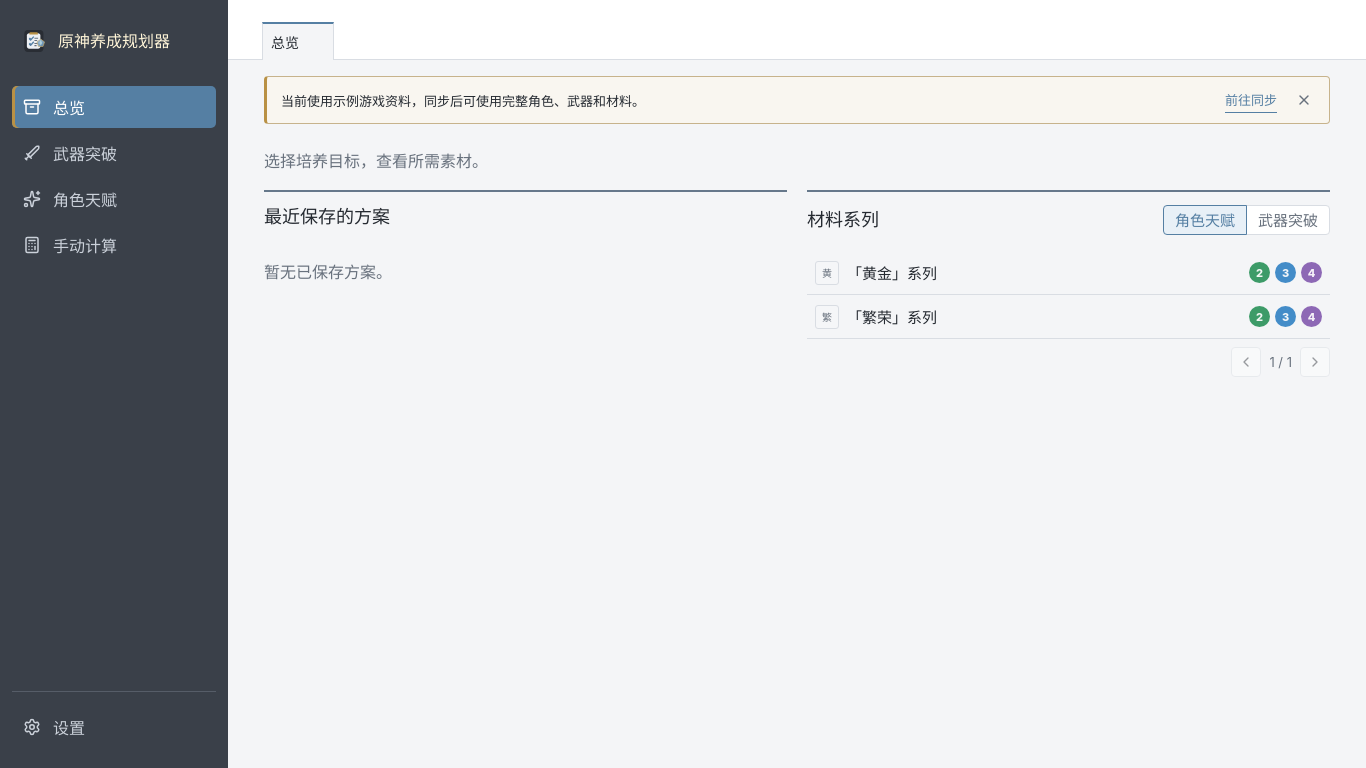
planner interface › shows a crafting character expectation in manual calculation
Expected: the text "原神养成规划器" is shown, [58, 31, 170, 51]
Click the button "手动计算": (114, 245) [12, 224, 216, 266]
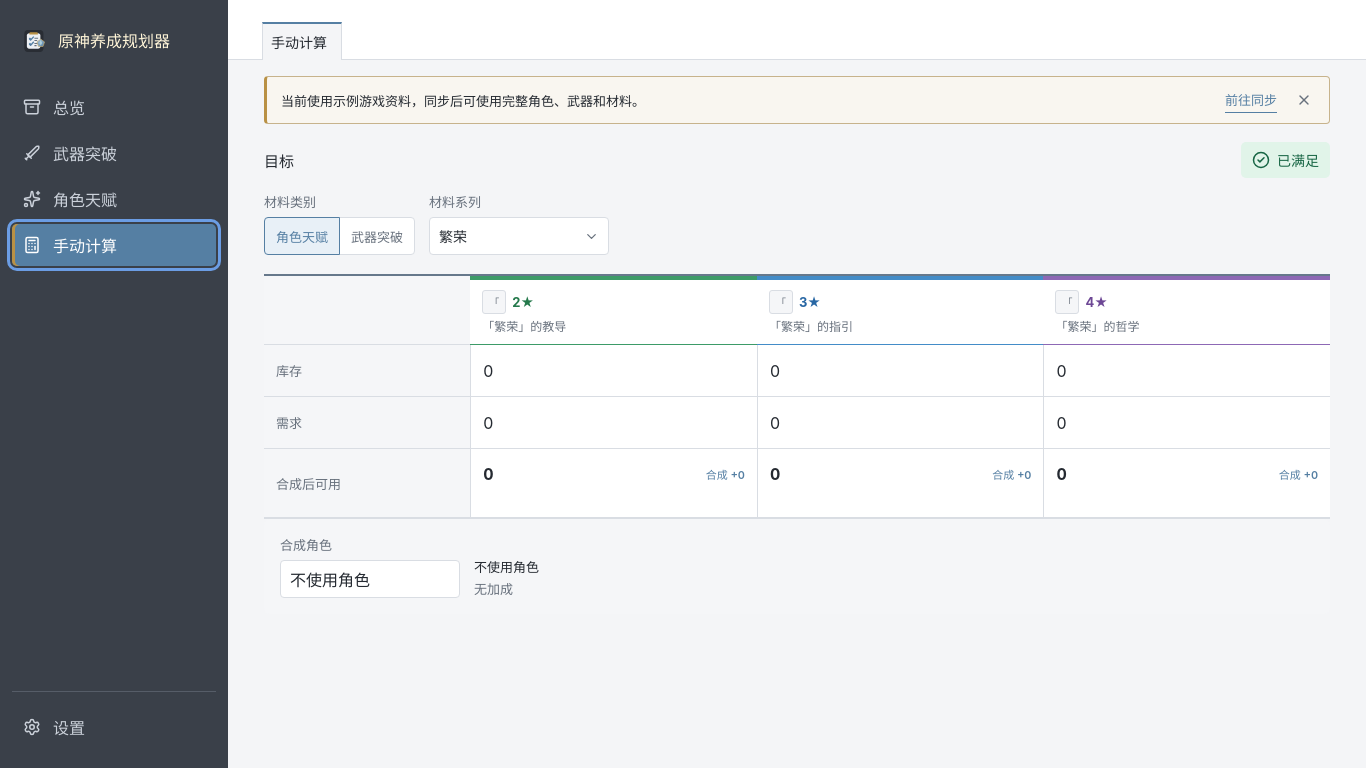
Replace the text in the number field named "库存 「繁荣」的指引 3★" with "30": (900, 371) [757, 345, 1044, 397]
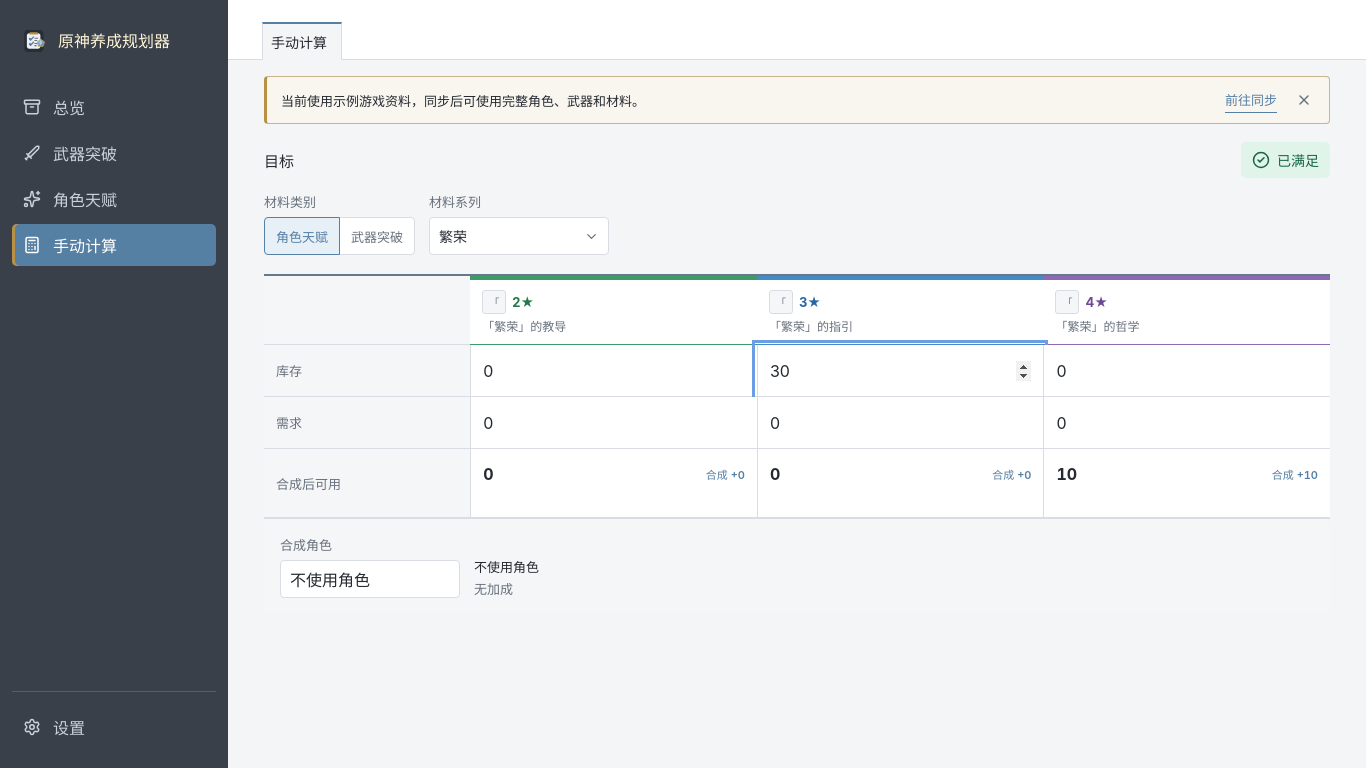
Click the button "不使用角色": (370, 579) [280, 560, 460, 598]
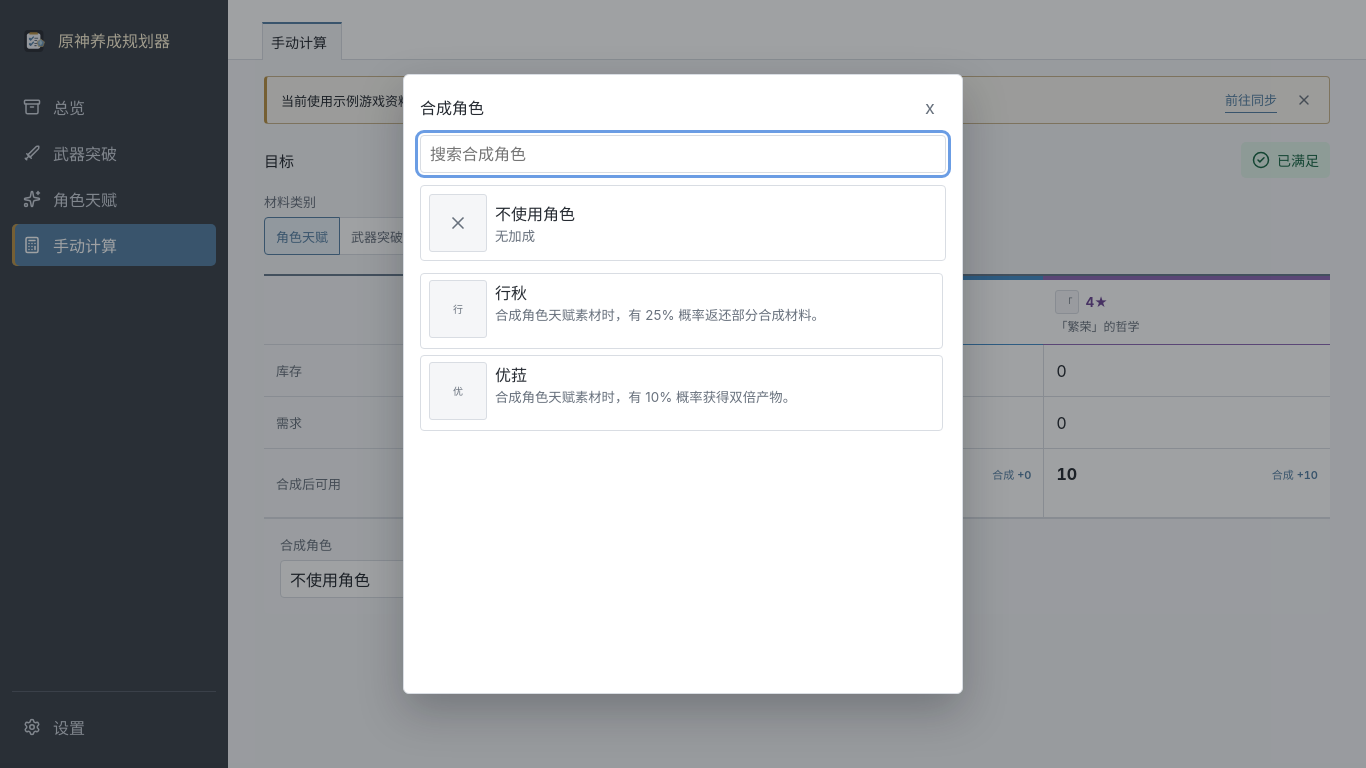
Click the button "优 优菈 合成角色天赋素材时，有 10% 概率获得双倍产物。": (682, 393) [420, 355, 943, 431]
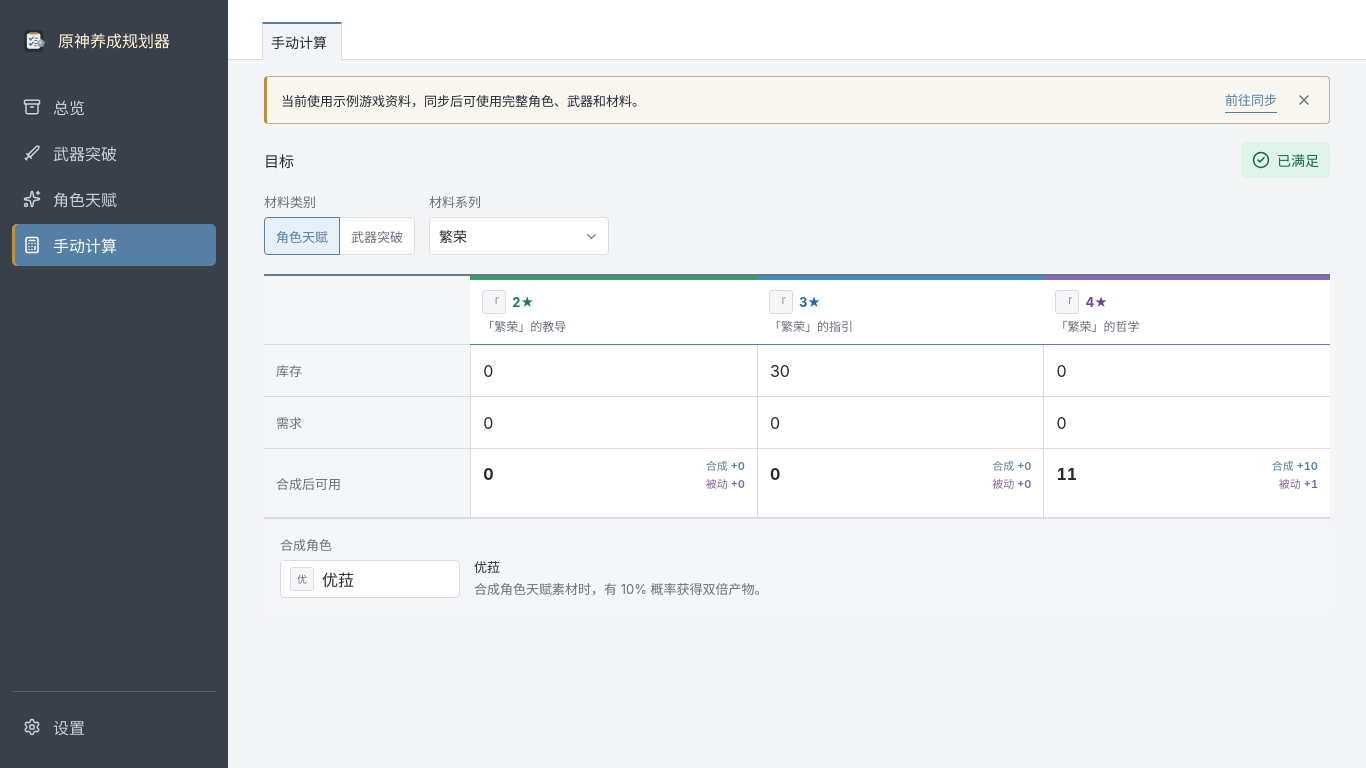
Now the text "合成 +10" is shown, box [1272, 457, 1318, 473]
Now the text "被动 +1" is shown, box [1279, 475, 1318, 491]
